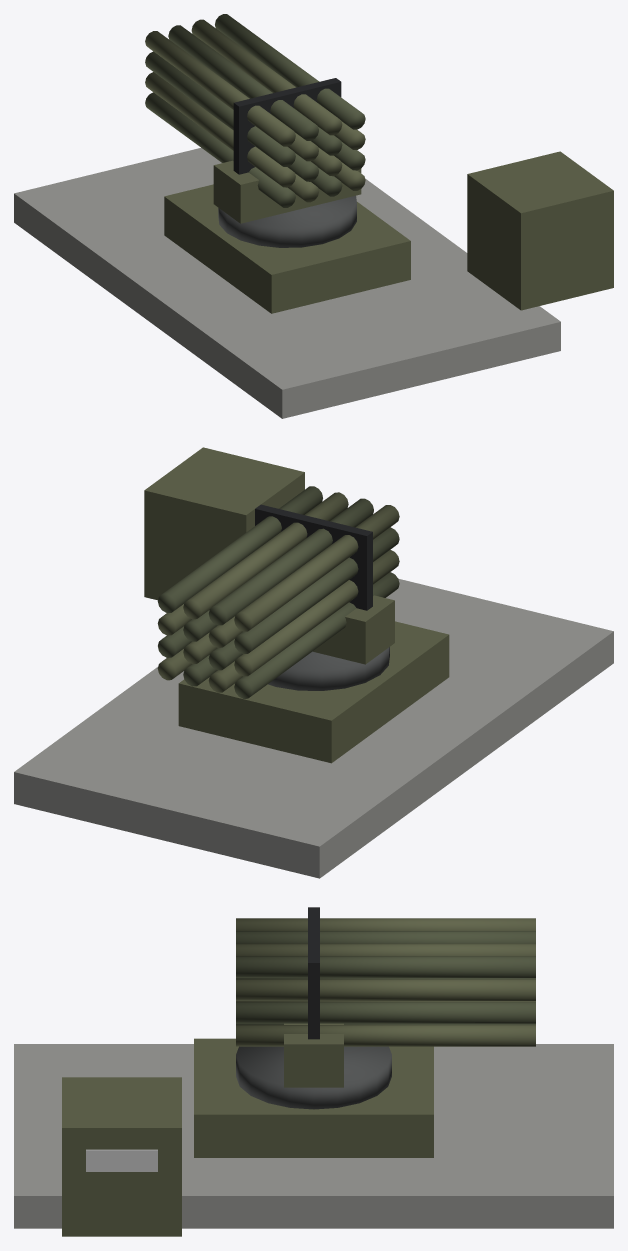
Rendered from LaunchPlatform.fbx.
The picture shows the model from 3 angles, top to bottom: view 1: azimuth 30°, elevation 25°; view 2: azimuth 150°, elevation 25°; view 3: azimuth 270°, elevation 25°; orthographic projection. The views are drawn at different scales.
Visible parts, largest first — view 1: Pad, ControlCabin, Base, Ring, Cradle, Tube03, Tube13, Tube23, Tube33, Tube01, Tube02, Tube00 (+1 smaller); view 2: Pad, Base, ControlCabin, Tube03, Tube23, Tube13, Tube33, Tube02, Tube01, Cradle, Ring, Tube00 (+10 smaller); view 3: Pad, Base, ControlCabin, Tube31, Tube32, Tube33, Ring, Tube30, Tube23, Tube03, Tube13, Cradle (+5 smaller).
Part boxes in pixels (box(x1,y1,x2,y2)): Pad: box(14, 148, 560, 418); ControlCabin: box(467, 151, 613, 310); Base: box(164, 184, 410, 313); Ring: box(218, 195, 356, 247); Cradle: box(213, 160, 361, 223); Tube03: box(145, 31, 295, 146); Tube13: box(168, 25, 318, 140); Tube23: box(191, 19, 342, 135); Tube33: box(215, 14, 365, 129); Tube01: box(145, 72, 295, 187); Tube02: box(145, 51, 295, 166); Tube00: box(145, 92, 295, 207); Pad: box(14, 578, 613, 878); Base: box(178, 621, 449, 763); ControlCabin: box(144, 447, 304, 600); Tube03: box(234, 505, 399, 631); Tube23: box(183, 492, 348, 619); Tube13: box(208, 498, 373, 625); Tube33: box(157, 486, 322, 612); Tube02: box(234, 527, 399, 653); Tube01: box(234, 550, 399, 676); Cradle: box(313, 595, 394, 664); Ring: box(268, 647, 389, 690); Tube00: box(234, 572, 399, 698); Pad: box(14, 1044, 613, 1228); Base: box(194, 1038, 433, 1157); ControlCabin: box(62, 1077, 181, 1236); Tube31: box(236, 1002, 535, 1023); Tube32: box(236, 979, 535, 1000); Tube33: box(236, 956, 535, 977); Ring: box(236, 1046, 391, 1109); Tube30: box(236, 1025, 535, 1046); Tube23: box(236, 943, 535, 956); Tube03: box(236, 918, 535, 930); Tube13: box(236, 931, 535, 943); Cradle: box(284, 1023, 343, 1087).
Bounding box in the file's own units: 762 × 1000 × 400.
